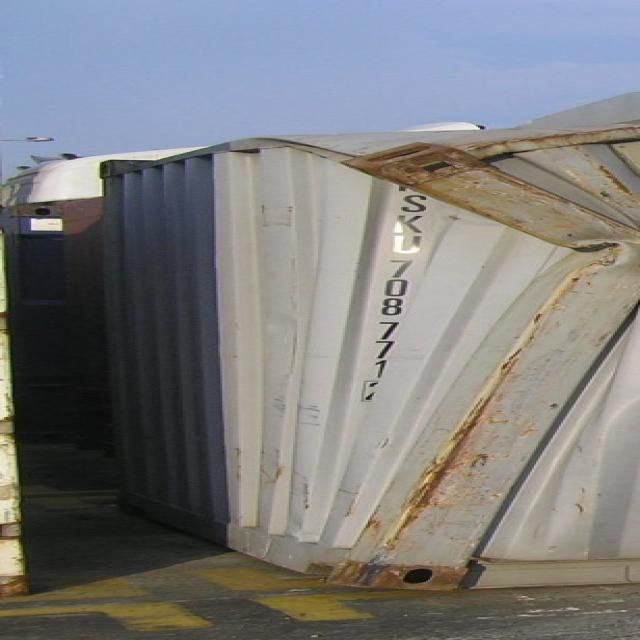dent: (337, 143, 640, 602)
